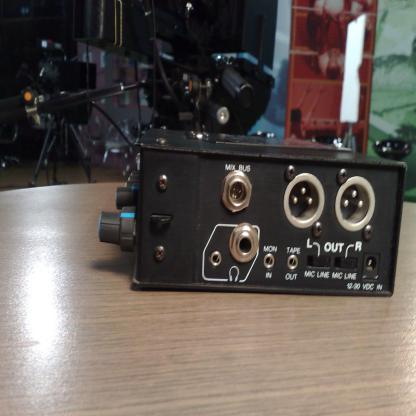Camera: (71, 1, 278, 80)
